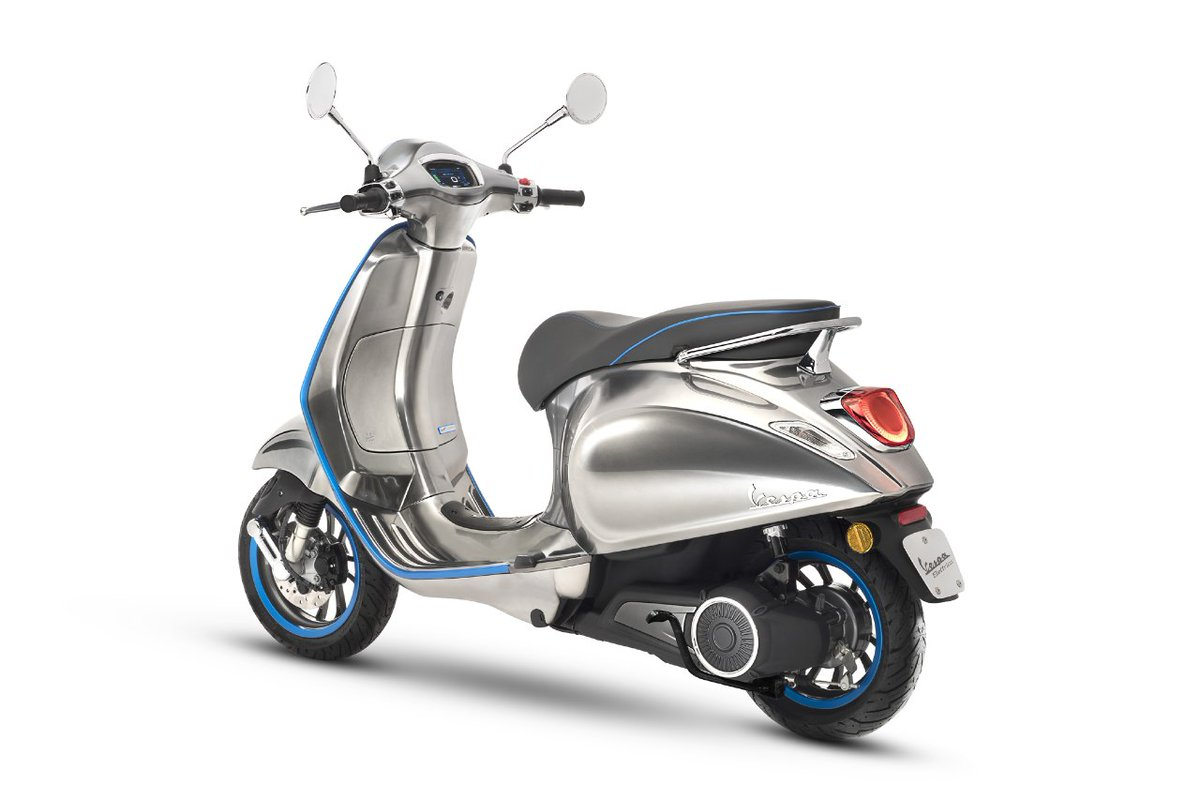motorcycle: (232, 63, 964, 746)
